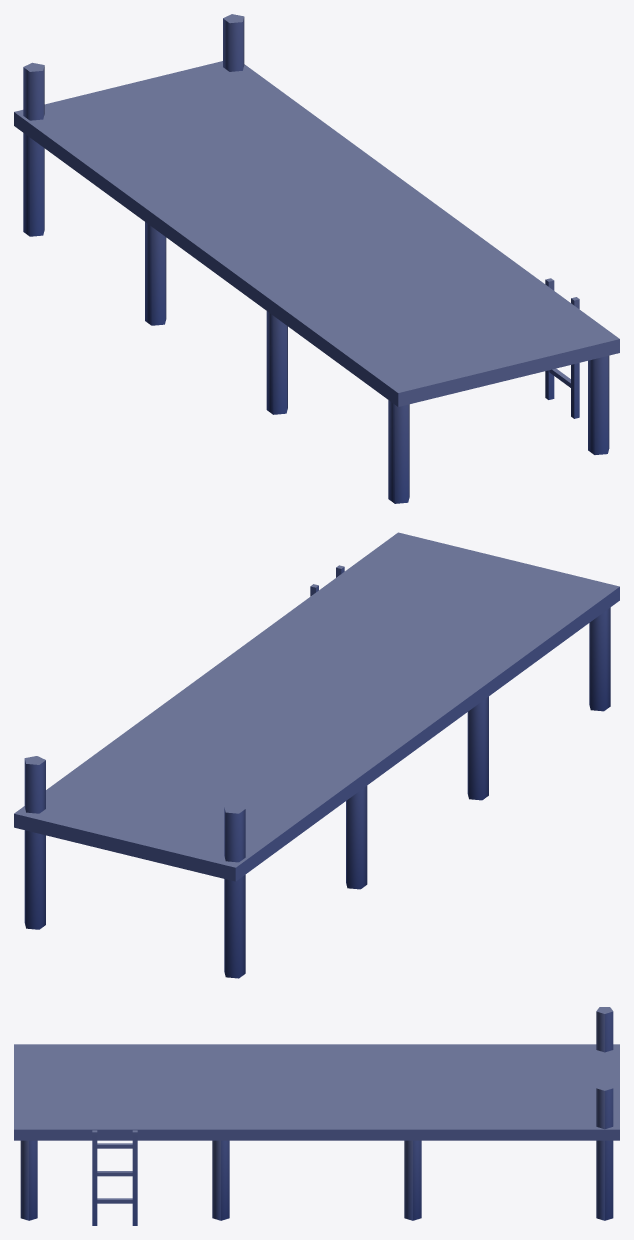
Rendered from arch.pier.glb.
3 views of the same model, one above another, from view 1: azimuth 30°, elevation 25°; view 2: azimuth 150°, elevation 25°; view 3: azimuth 270°, elevation 25° (orthographic). The views are drawn at different scales.
Parts seen in each view (by area): view 1: kit_pier_deck, kit_pier_piles; view 2: kit_pier_deck, kit_pier_piles; view 3: kit_pier_deck, kit_pier_piles.
Boxes of the visible parts, x1,y1,x2,y2 form: kit_pier_deck: (14,61,619,406); kit_pier_piles: (23,14,609,503); kit_pier_deck: (14,532,619,881); kit_pier_piles: (24,565,610,978); kit_pier_deck: (14,1044,619,1140); kit_pier_piles: (20,1007,613,1225).
Bounding box in the file's own units: 2.09 × 1.43 × 6.
